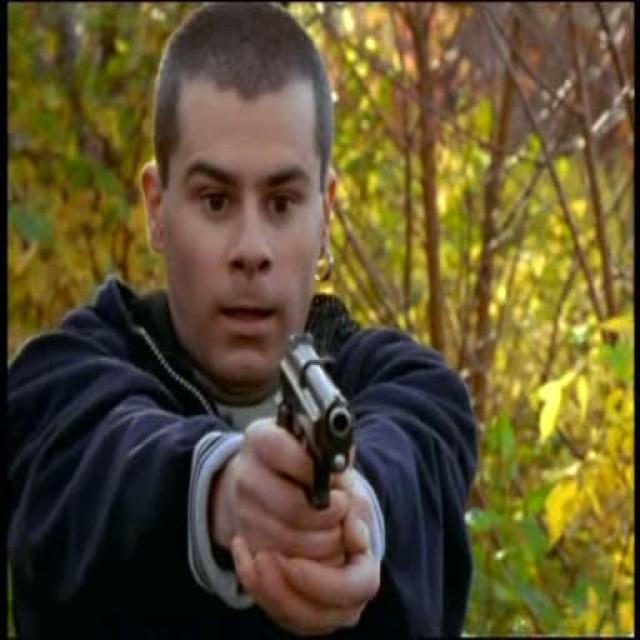weapons: (249, 311, 365, 571)
